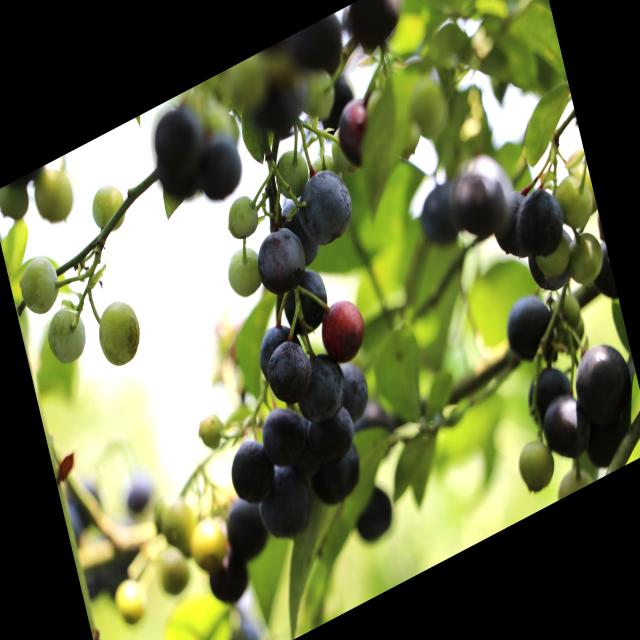blueberry: (442, 144, 515, 251), (290, 152, 361, 260), (248, 459, 316, 553), (494, 278, 559, 376), (569, 334, 638, 426), (506, 177, 571, 268), (249, 214, 313, 300), (224, 427, 283, 514), (277, 258, 336, 342), (301, 390, 363, 468), (538, 384, 598, 464), (295, 341, 352, 425), (305, 442, 367, 518), (262, 330, 318, 410), (193, 129, 249, 207), (259, 396, 310, 470), (220, 494, 269, 570), (201, 542, 253, 612), (332, 351, 373, 421)
blueberry-halfripe: (315, 289, 369, 366)
blueberry-unripe: (24, 153, 86, 244), (38, 291, 97, 383), (90, 290, 149, 378), (15, 249, 65, 323), (562, 224, 608, 296), (221, 235, 268, 304), (269, 139, 316, 206), (552, 167, 596, 236), (514, 428, 558, 496), (86, 176, 130, 243), (223, 187, 264, 244)
